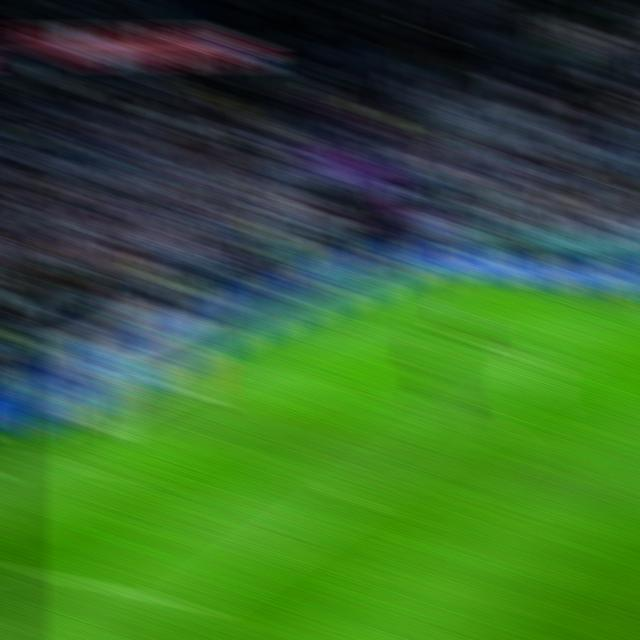bigarea_bottom_inner: (166, 588, 212, 620)
bigarea_top_inner: (549, 341, 591, 372)
bigarea_top_outter: (311, 312, 350, 338)
bottom_arc_area_intersection: (330, 482, 373, 512)
corner: (403, 272, 444, 293)
smallarea_bottom_inner: (104, 458, 148, 491)
smallarea_bottom_outter: (15, 444, 56, 472)
smallarea_top_inner: (296, 366, 335, 392)
smallarea_top_outter: (220, 354, 259, 378)
top_arc_area_intersection: (460, 398, 501, 426)
